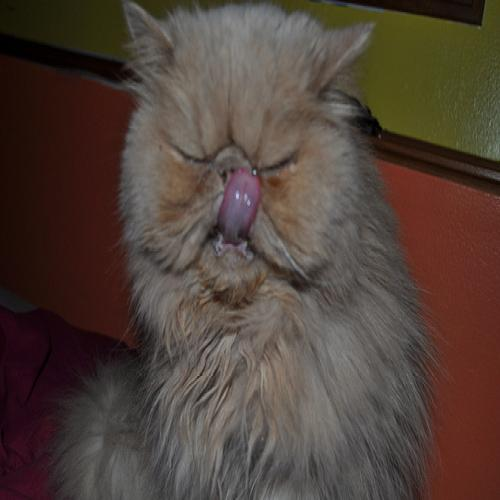persian: (111, 1, 396, 340)
